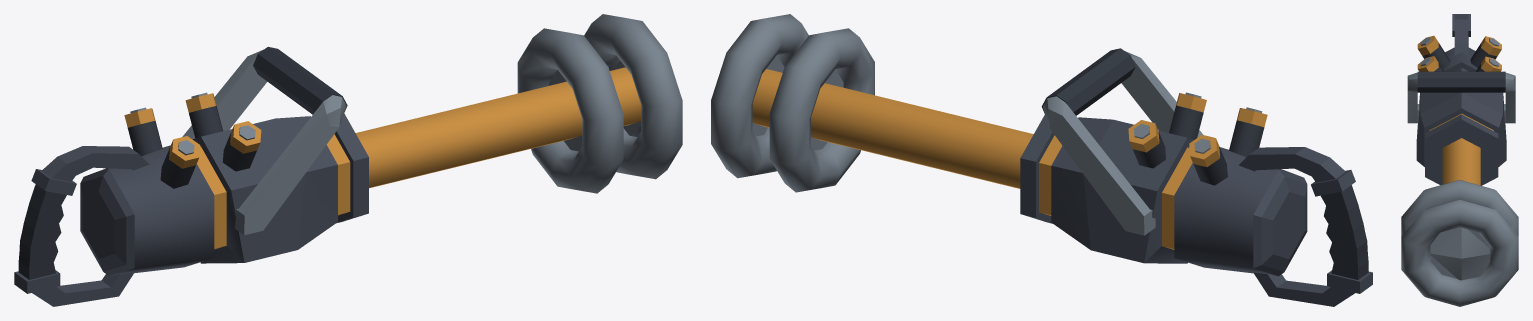
File: Tesla Coil.fbx
3 views of the same model, side by side, from view 1: azimuth 30°, elevation 25°; view 2: azimuth 150°, elevation 25°; view 3: azimuth 270°, elevation 25° (orthographic). The views are drawn at different scales.
Visible parts, largest first — view 1: Body, Batteries; view 2: Body, Batteries; view 3: Body, Batteries.
Part boxes in pixels (x1,y1,x2,y2): Body: [14, 14, 682, 306]; Batteries: [124, 92, 261, 188]; Body: [711, 14, 1372, 306]; Batteries: [1128, 92, 1267, 185]; Body: [1401, 14, 1518, 306]; Batteries: [1417, 35, 1501, 71].
Bounding box in the file's own units: 1678 × 470 × 400.
